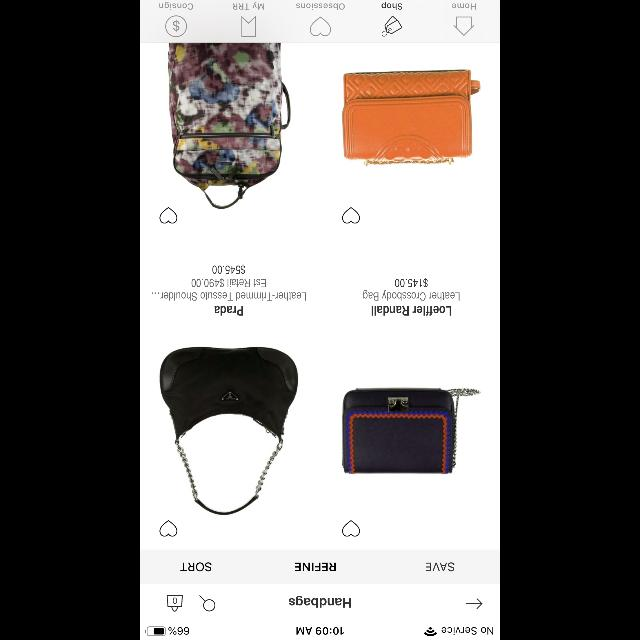icon: (166, 16, 187, 36), (382, 16, 402, 36), (310, 18, 330, 36), (454, 18, 474, 36), (242, 16, 256, 38), (342, 207, 360, 223), (160, 207, 178, 223), (342, 520, 360, 536), (160, 520, 177, 536), (199, 595, 215, 611), (466, 599, 482, 609)
image: (160, 347, 298, 515), (168, 43, 290, 209), (342, 70, 481, 166), (342, 388, 481, 474)
text: (152, 278, 306, 300), (363, 290, 459, 300), (372, 306, 451, 316), (289, 596, 351, 608), (212, 264, 245, 274), (180, 562, 212, 572), (296, 563, 336, 571), (296, 4, 344, 10), (215, 306, 243, 316), (426, 562, 454, 572), (394, 278, 428, 286), (159, 2, 193, 10), (167, 596, 183, 612), (233, 2, 264, 10), (382, 2, 402, 10), (452, 4, 476, 10)
uppertaskbar: (140, 626, 500, 640)
